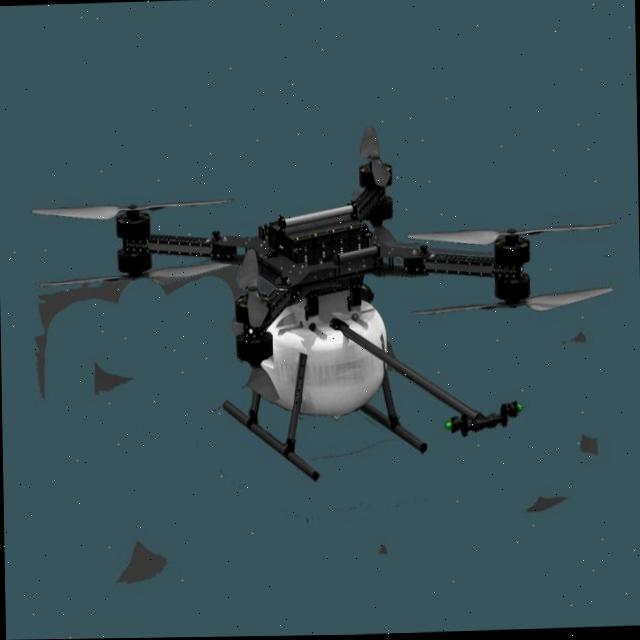drone: (27, 161, 640, 454)
